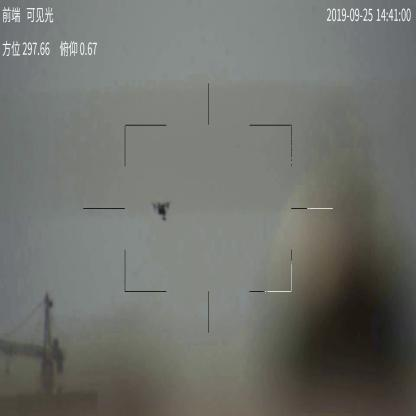uav: (149, 201, 172, 222)
